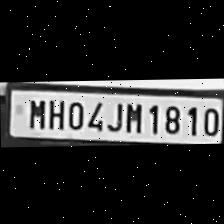0: (198, 104, 220, 136), (64, 97, 84, 128)
1: (143, 100, 161, 133), (181, 102, 199, 135)
4: (83, 97, 105, 130)
8: (159, 100, 181, 134)
H: (45, 96, 65, 128)
J: (105, 97, 123, 130)
M: (122, 99, 144, 132), (24, 96, 46, 128)
